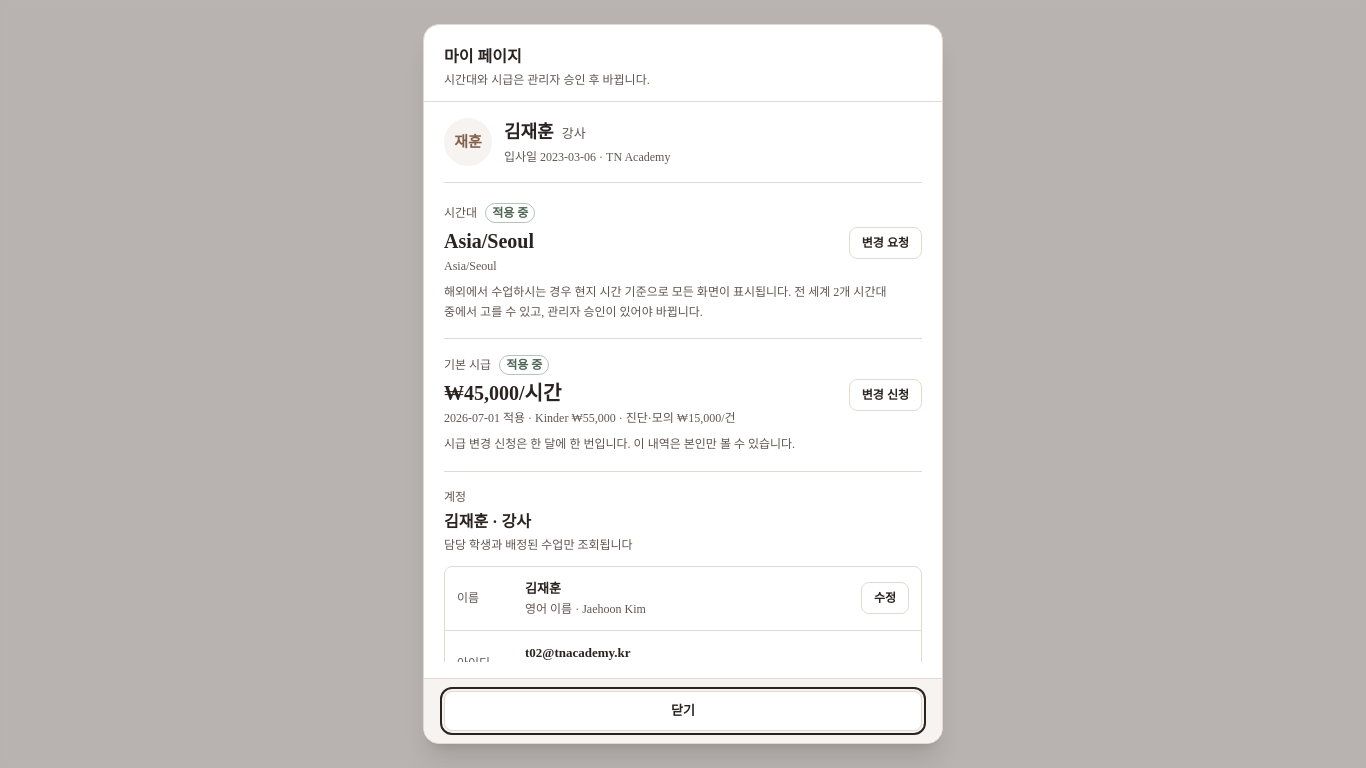
Test case: 계정 절 — 이름 · 영어 이름 (D5) › 요청을 올려 연 단추가 잠기면 초점은 대화상자 판에 남는다 — body 로 빠지지 않는다
The image size is (1366, 768).
Step 1. Click the button "변경 요청" → (885, 243), box [849, 227, 922, 259]
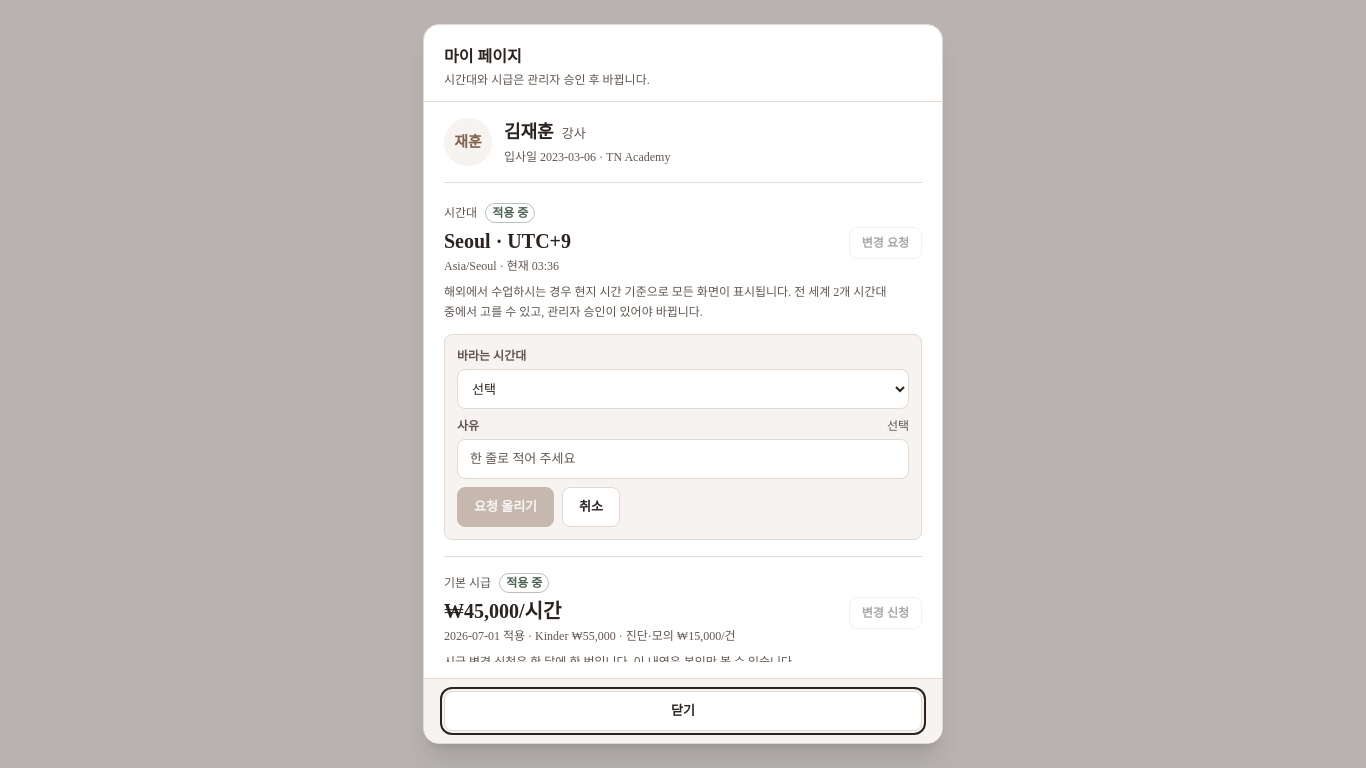
Step 2. Select "미국 동부 · America/New_York" in the dropdown labelled "바라는 시간대" → (683, 389), box [457, 369, 909, 409]
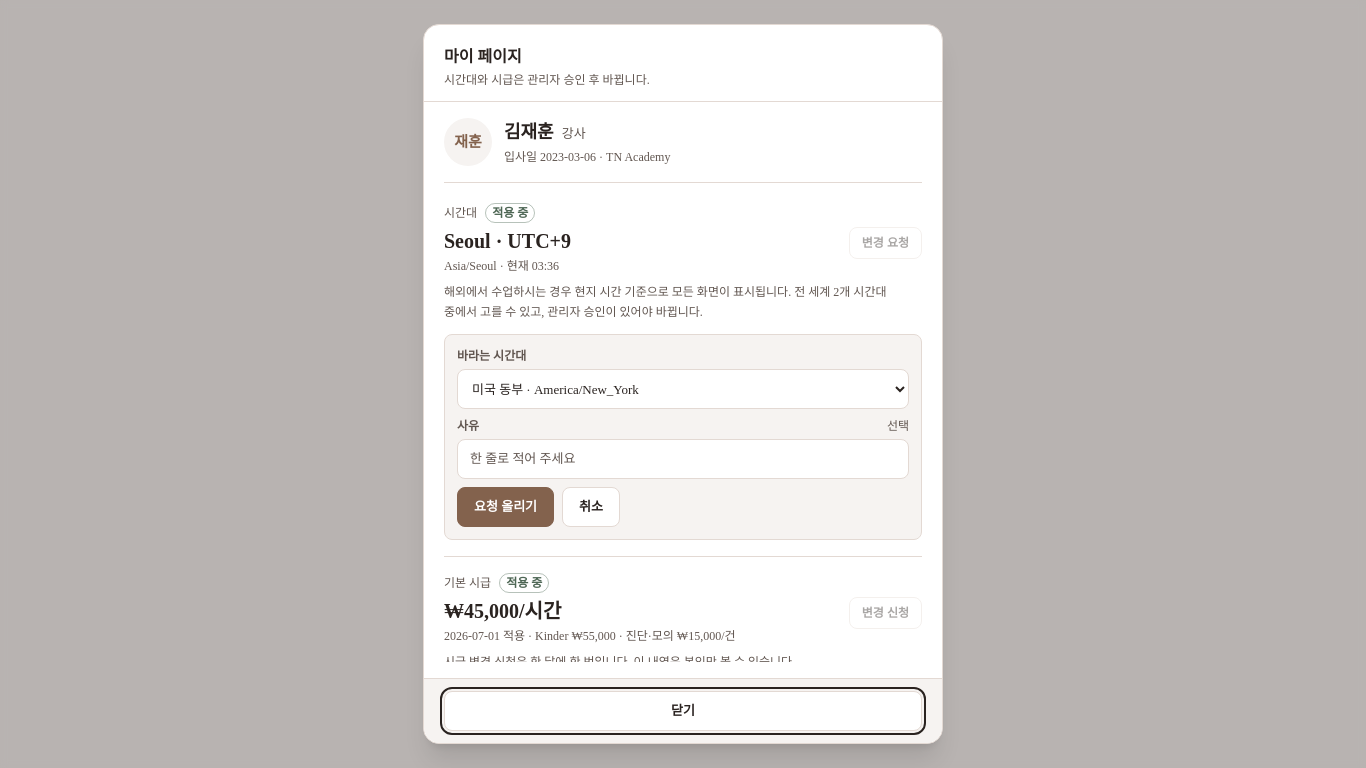
Step 3. Click the button "요청 올리기" → (506, 507), box [457, 487, 554, 527]
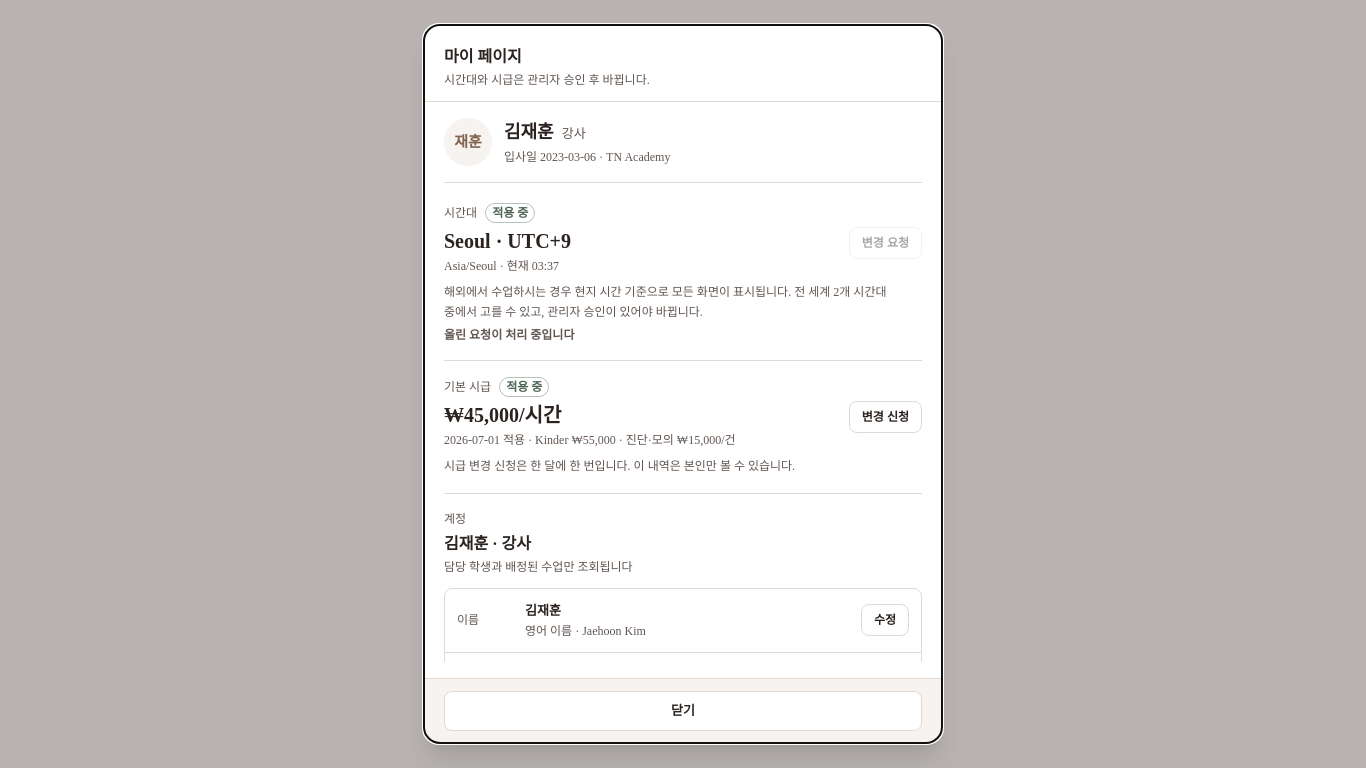
Check: the text "올린 요청이 처리 중입니다" is shown, box [444, 328, 574, 342]
